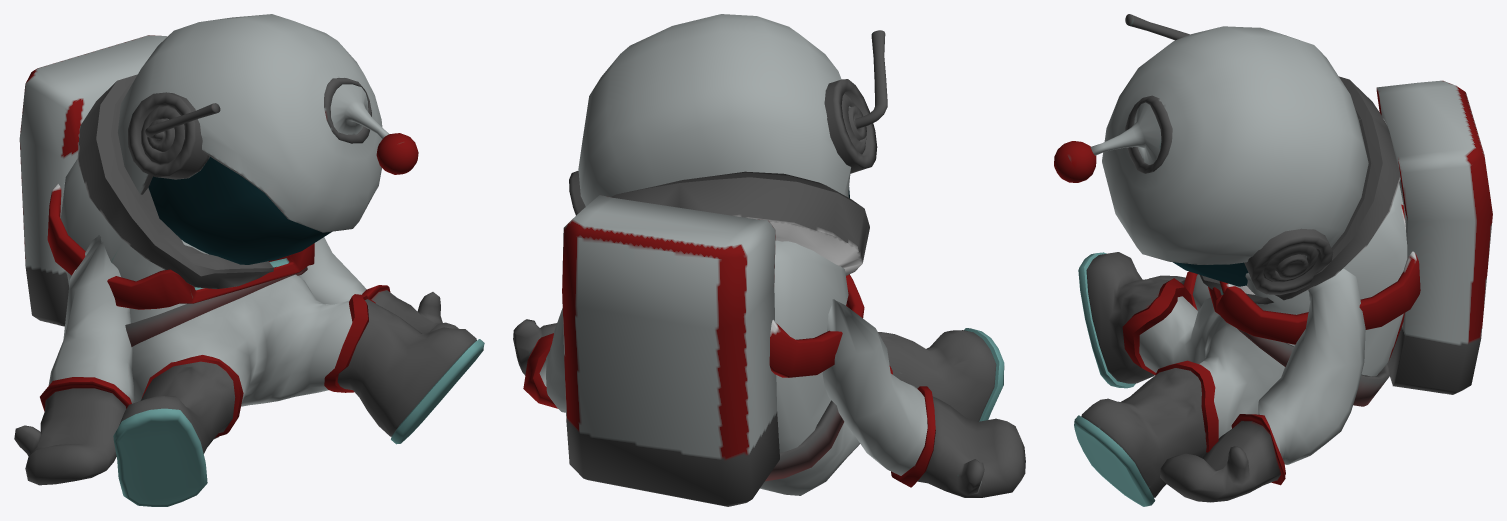
The model's file is SM_EN_DeadAstro02.fbx.
The picture shows the model from 3 angles, left to right: view 1: azimuth 30°, elevation 25°; view 2: azimuth 150°, elevation 25°; view 3: azimuth 270°, elevation 25°; orthographic projection. The views are drawn at different scales.
Visible parts, largest first — view 1: deadAstro02; view 2: deadAstro02; view 3: deadAstro02.
Boxes of the visible parts, box(x1,y1,x2,y2) form: deadAstro02: box(14, 14, 484, 506); deadAstro02: box(513, 14, 1025, 506); deadAstro02: box(1054, 14, 1492, 506).
Bounding box in the file's own units: 115 × 102 × 97.05.
